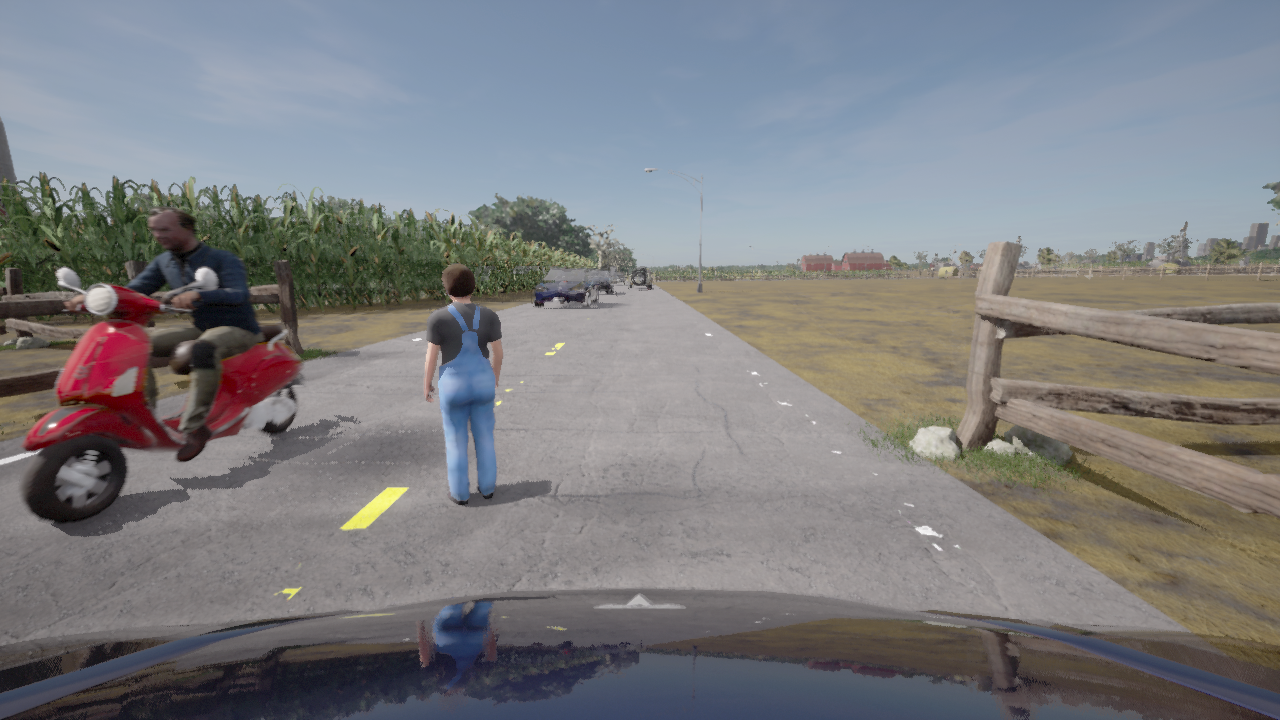cyclist: (0, 588, 1279, 719), (20, 267, 306, 523), (533, 267, 597, 307), (587, 267, 612, 294), (629, 267, 650, 288), (612, 272, 626, 281)
pedestrian: (423, 263, 502, 505)
